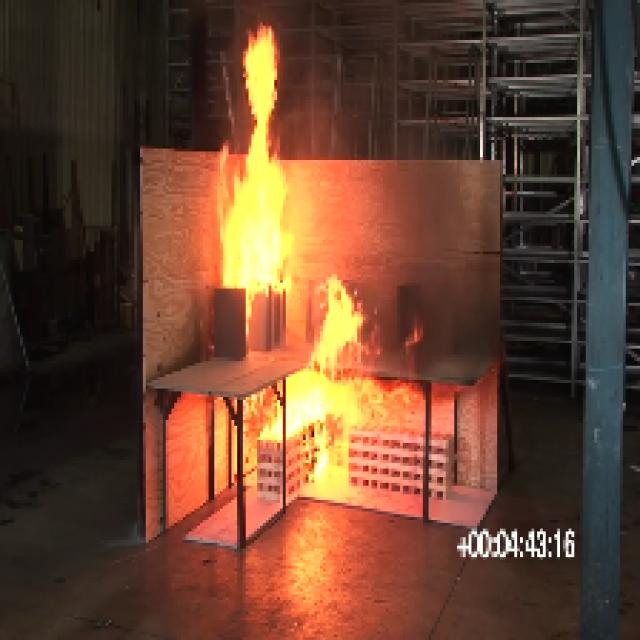fire: (272, 370, 395, 448)
smoke: (211, 28, 288, 295)
